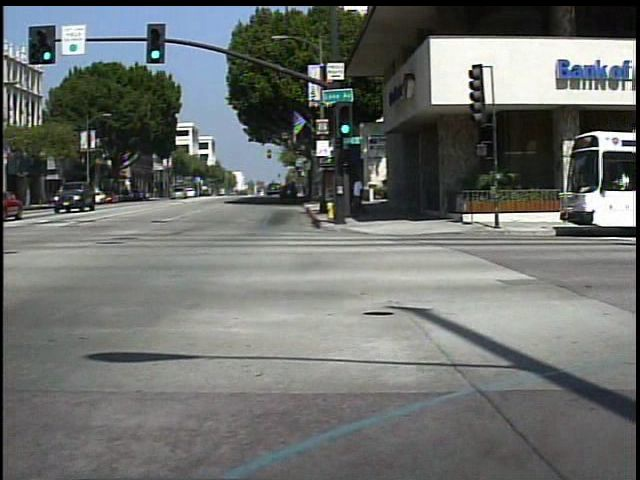person: (350, 172, 372, 220)
